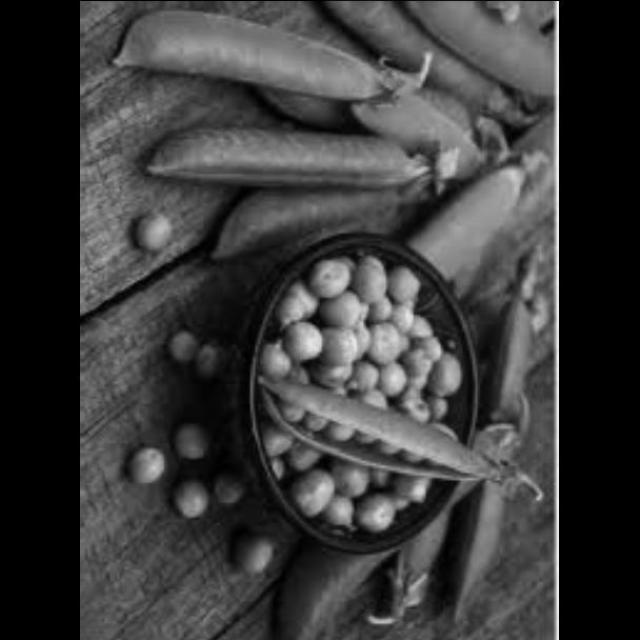peas: (159, 1, 536, 238), (252, 255, 462, 505), (320, 516, 520, 600), (159, 307, 233, 388), (207, 507, 281, 579), (127, 439, 174, 496), (168, 481, 221, 530), (162, 418, 217, 462), (207, 454, 250, 510), (132, 206, 169, 257)
